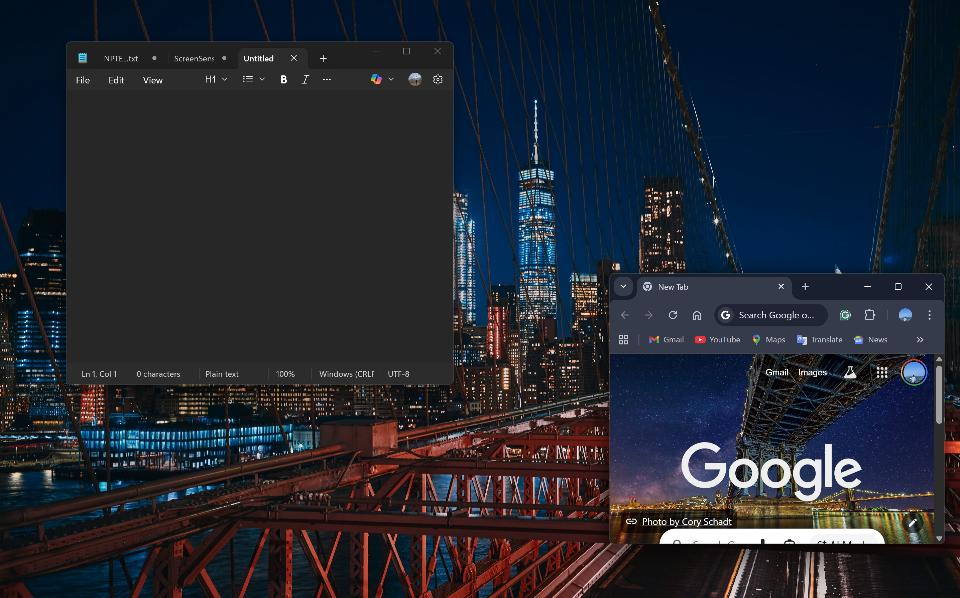close_button: (919, 274, 941, 299), (427, 42, 448, 67)
maximize_button: (888, 275, 910, 300), (398, 42, 419, 68)
minimize_button: (357, 43, 390, 67), (858, 275, 879, 300)
